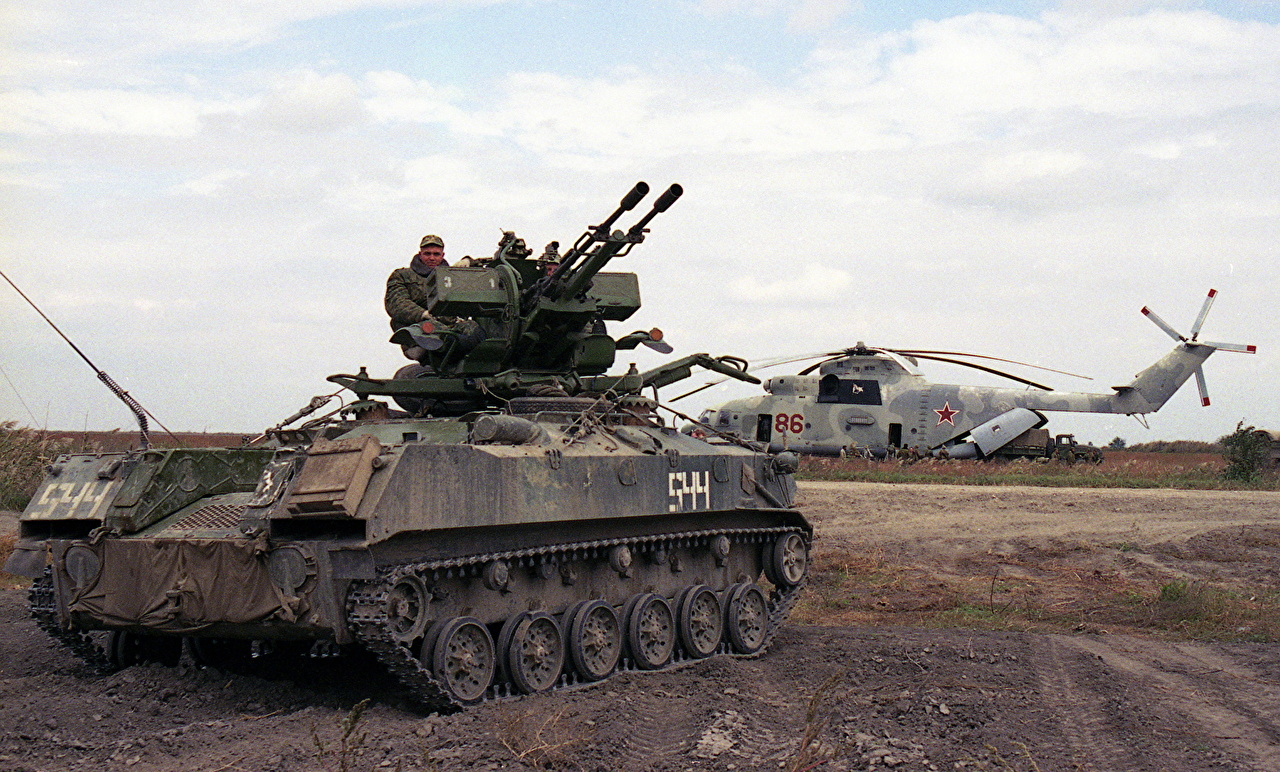btr: (44, 172, 815, 707)
pilot: (376, 240, 485, 338), (529, 253, 576, 285)
warmachine: (653, 305, 1267, 460)
